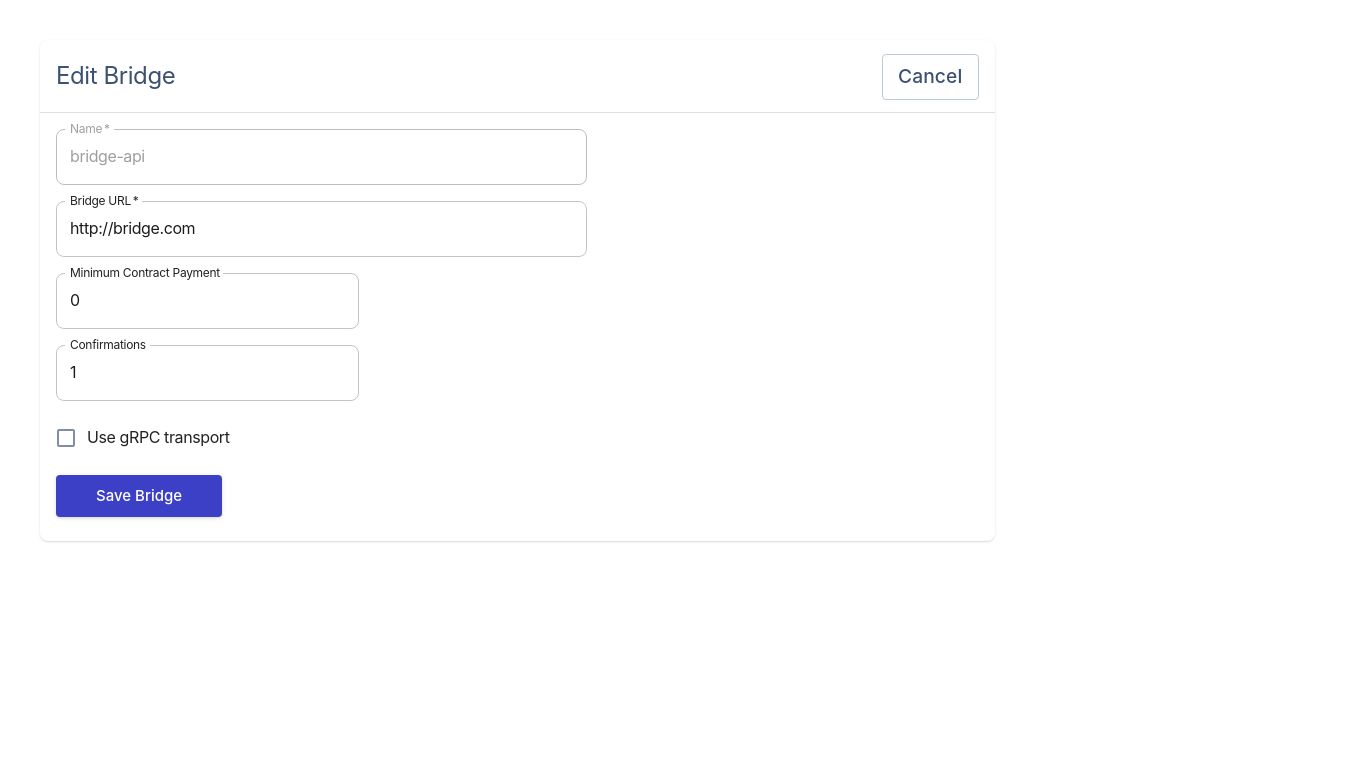
Test: EditBridgeScreen › renders mutation GQL errors
This screenshot has width=1366, height=768.
Click the button "Save Bridge".
click(139, 496)  # box x1=56 y1=475 x2=222 y2=517
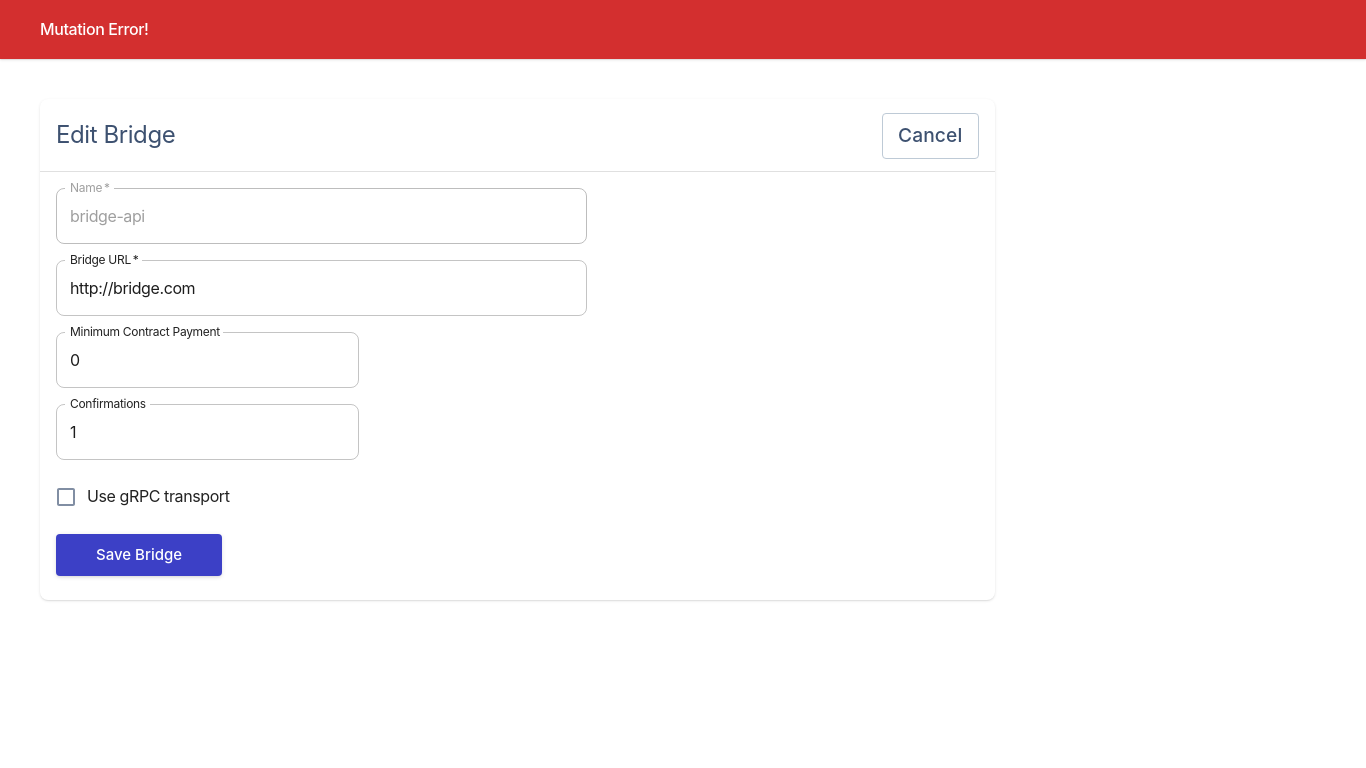
Expected: the text "Mutation Error!" is shown, x1=40 y1=19 x2=148 y2=39
